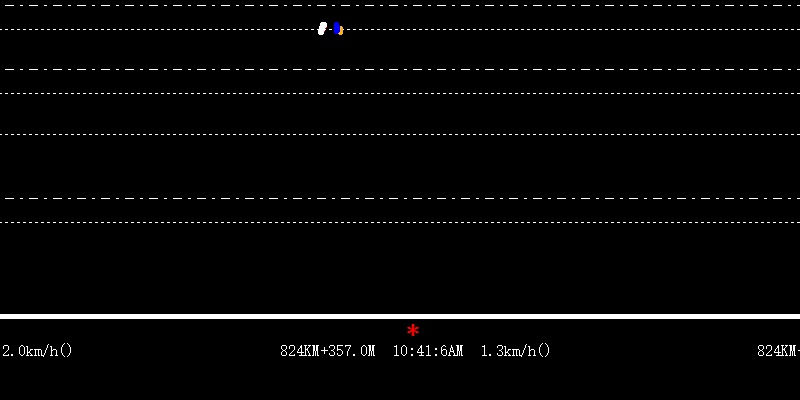face_1: (317, 18, 330, 41)
face_s: (330, 19, 346, 42)
star: (404, 323, 420, 338)
